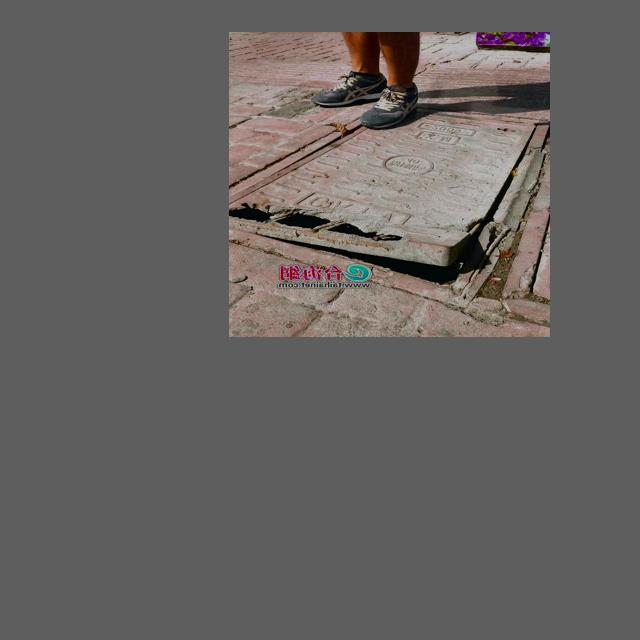broke: (229, 113, 539, 293)
